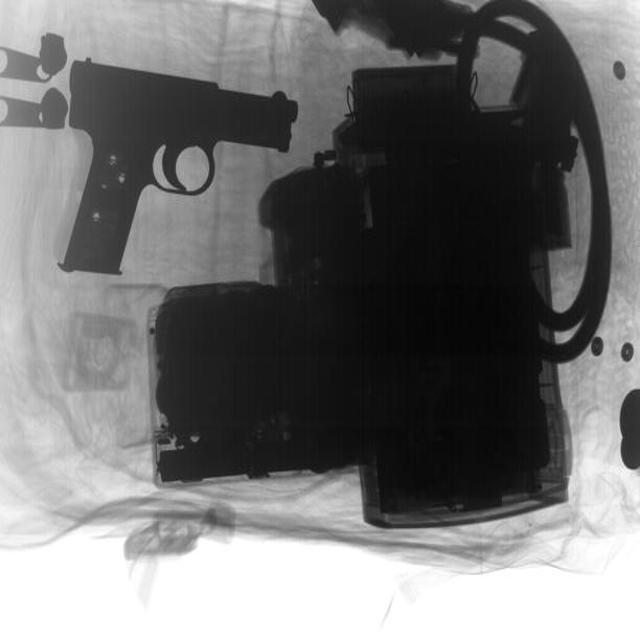gun: (67, 51, 299, 287)
